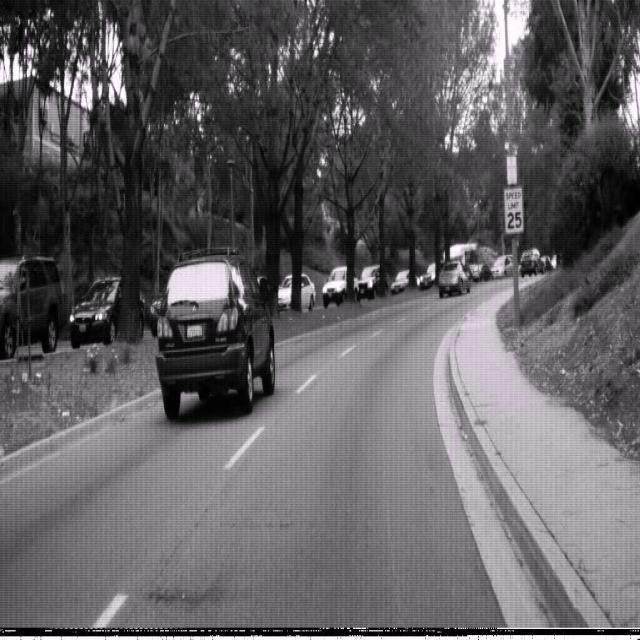speedLimit25: (504, 185, 524, 236)
